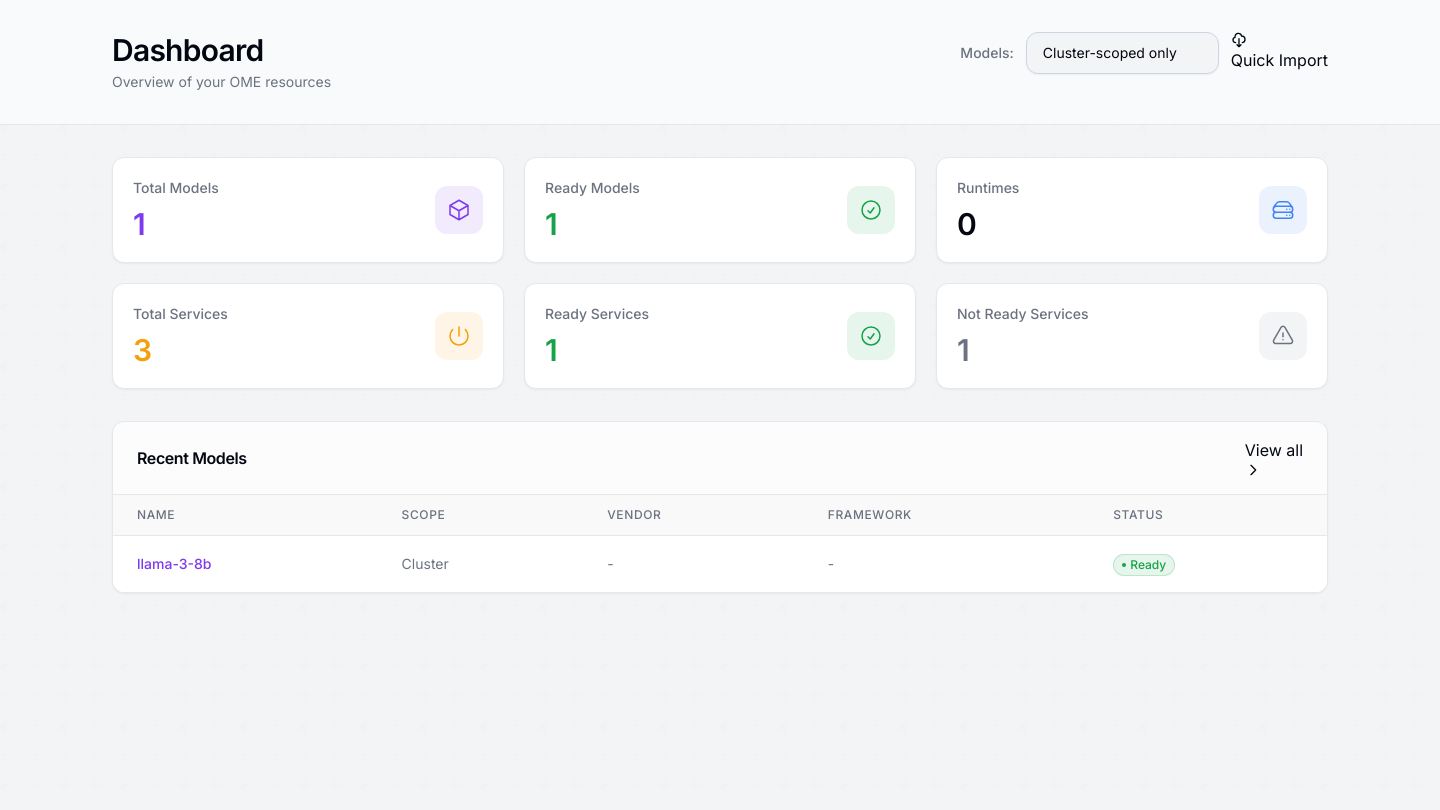
Test: DashboardPage › keeps the dashboard while a namespace's models load, and shows their error in place
Select "Cluster + team-a" in the dropdown labelled "Models:": (1122, 53) [1026,32,1219,74]
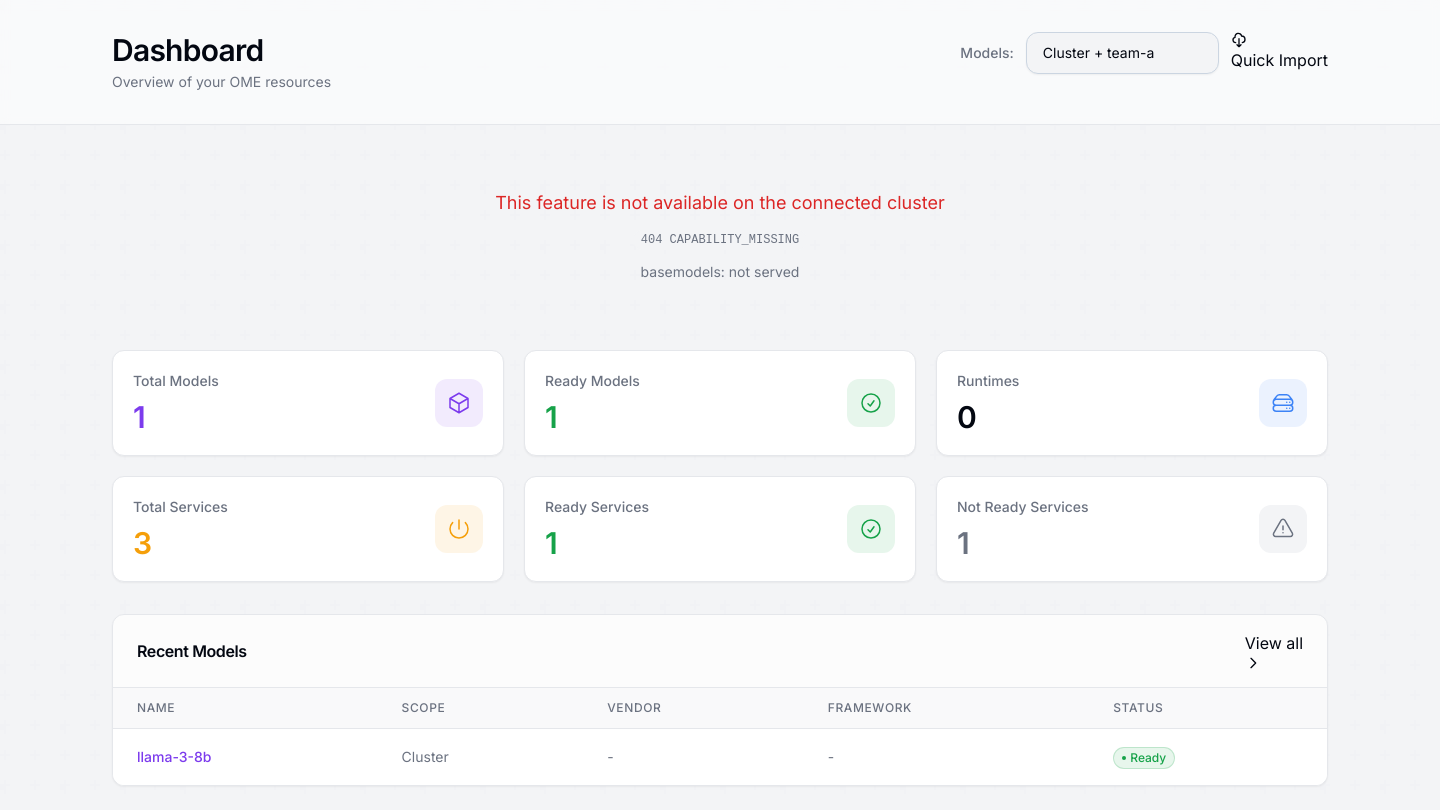
Now the text "This feature is not available on the connected cluster" is shown, box [495,189,945,217]
